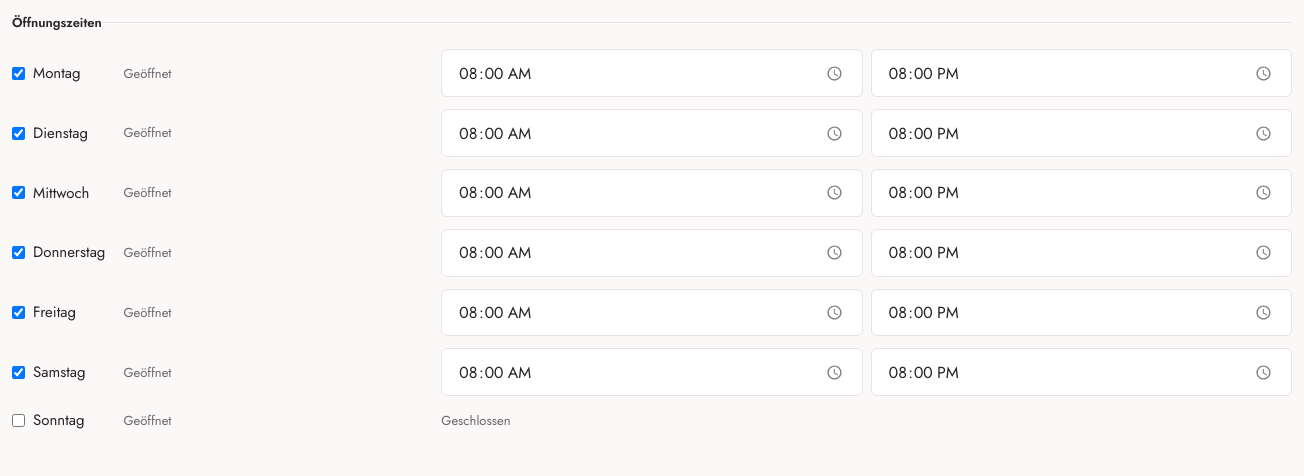
Test: OpeningHoursEditor › reports open >= close under the row and marks the inputs invalid
Replace the text in the time field named "Donnerstag bis" with "07:00" at (1081,253), box [871,229,1292,277]
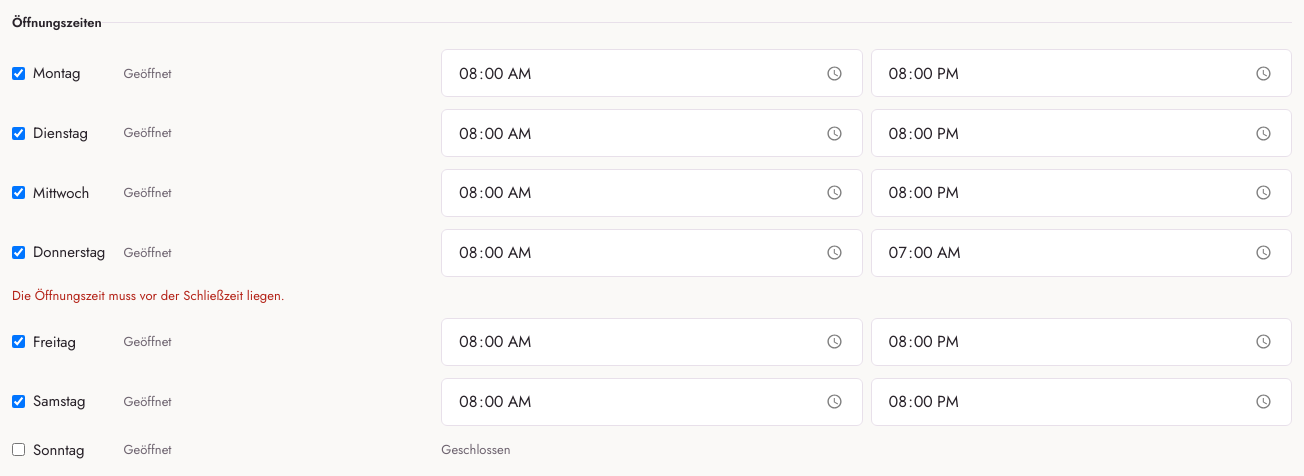
Result: the text "Die Öffnungszeit muss vor der Schließzeit liegen." is shown at [12,286,285,305]
